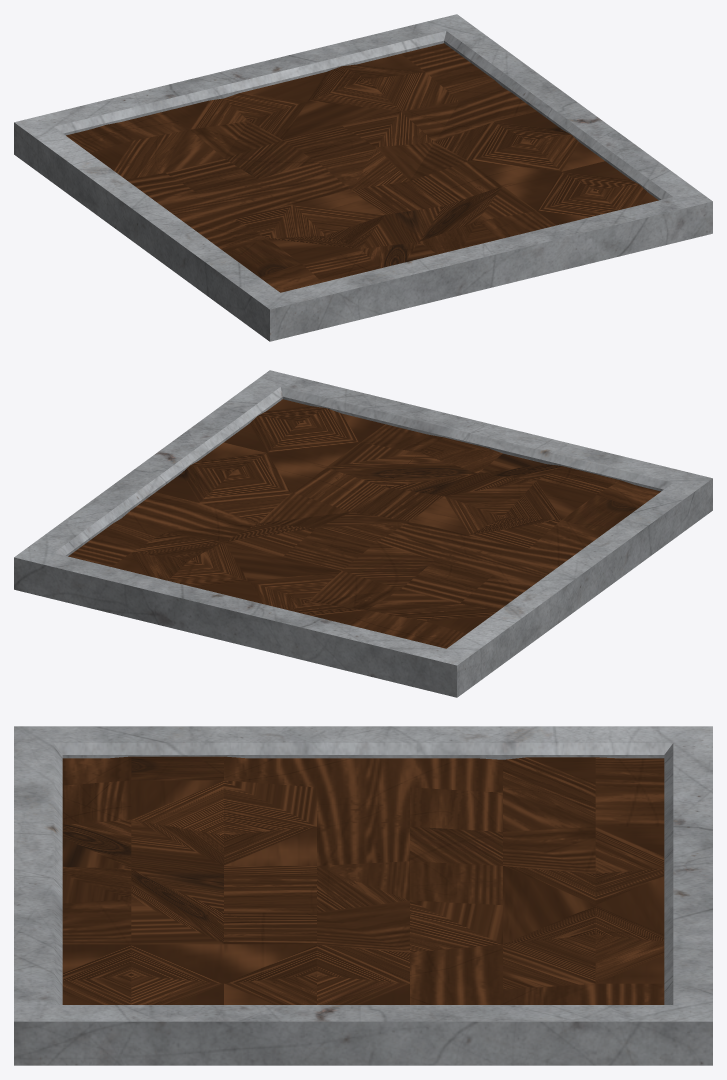
Rendered from floor.fbx.
The picture shows the model from 3 angles, top to bottom: view 1: azimuth 30°, elevation 25°; view 2: azimuth 150°, elevation 25°; view 3: azimuth 270°, elevation 25°; orthographic projection. The views are drawn at different scales.
Parts seen in each view (by area): view 1: Cube, Cube.001; view 2: Cube, Cube.001; view 3: Cube, Cube.001.
Part boxes in pixels (box(x1,y1,x2,y2)): Cube: box(66, 43, 658, 292); Cube.001: box(14, 14, 712, 341); Cube: box(68, 399, 660, 648); Cube.001: box(14, 370, 712, 697); Cube: box(62, 756, 664, 1004); Cube.001: box(14, 726, 712, 1065).
Size of the model in its own units: 430 by 29.88 by 430.
Materials: 2 (2 with a texture image).
